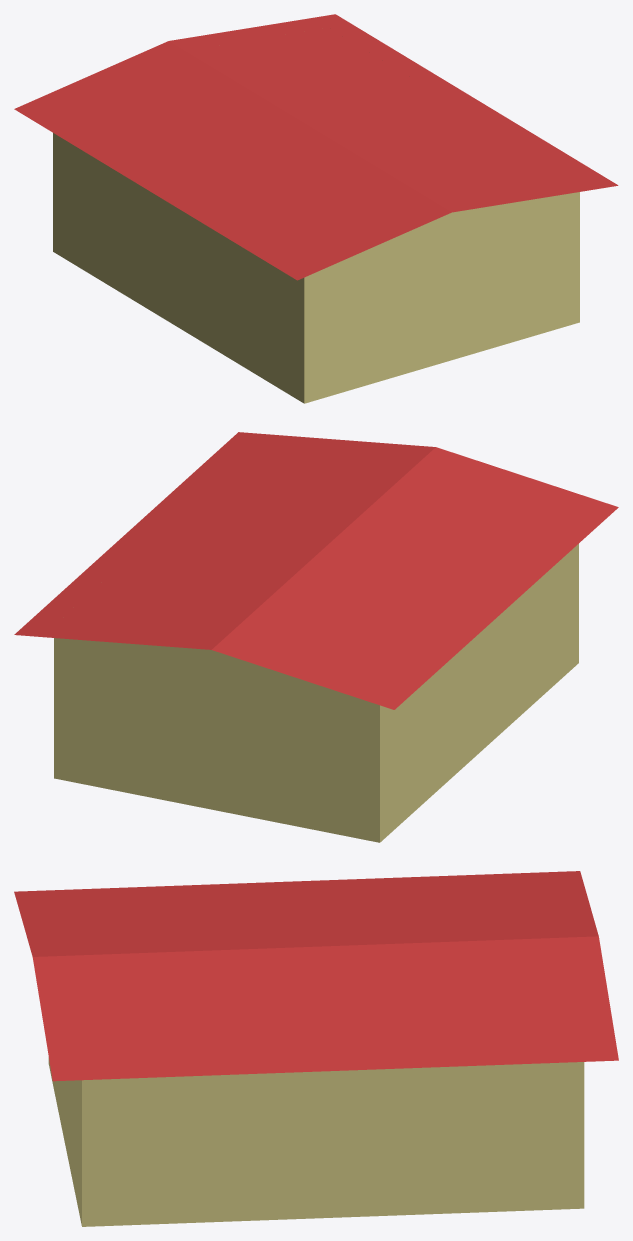
The picture shows the model from 3 angles, top to bottom: view 1: azimuth 30°, elevation 25°; view 2: azimuth 150°, elevation 25°; view 3: azimuth 270°, elevation 25°; orthographic projection. The views are drawn at different scales.
Bounding box in the file's own units: 23.21 × 28.22 × 9.58.
